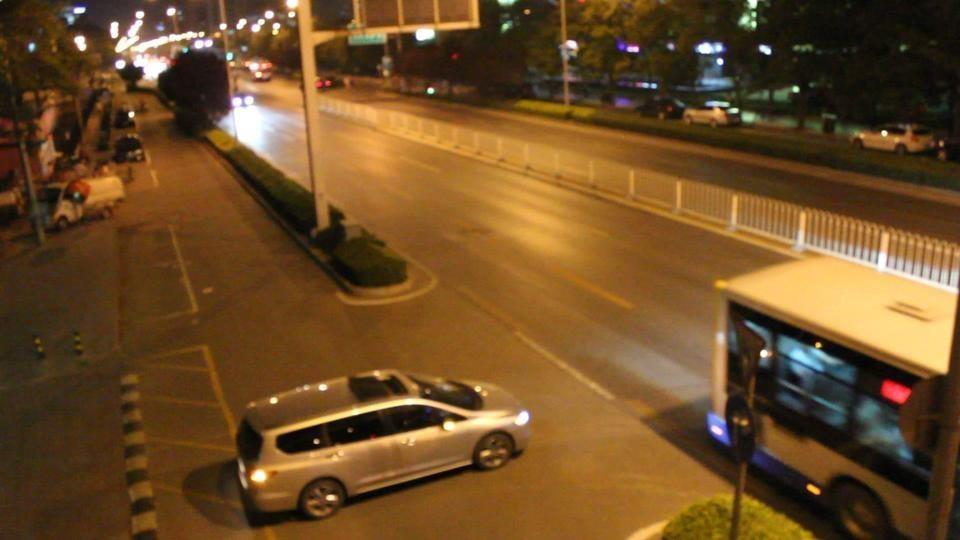car: (233, 369, 530, 521), (52, 172, 127, 227), (852, 124, 945, 157), (682, 102, 745, 128), (636, 96, 688, 121), (112, 136, 146, 164), (247, 60, 274, 82), (315, 75, 343, 92), (232, 93, 256, 107)
